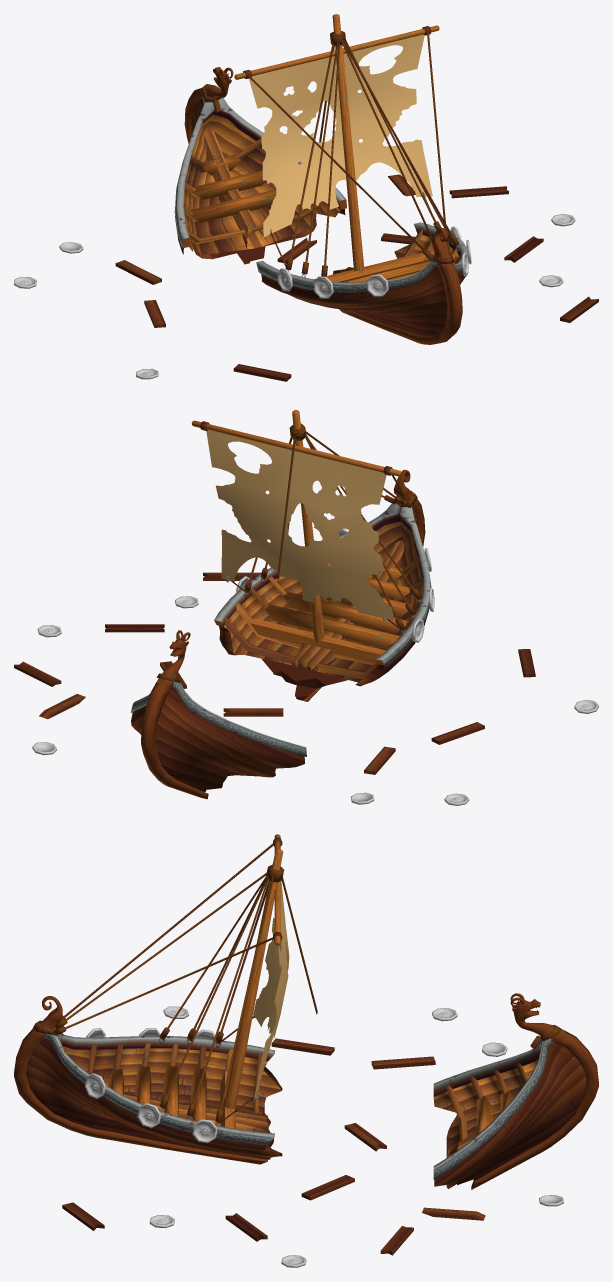
File: VikingShip_ForestProp_004.fbx
3 views of the same model, one above another, from view 1: azimuth 30°, elevation 25°; view 2: azimuth 150°, elevation 25°; view 3: azimuth 270°, elevation 25° (orthographic). The views are drawn at different scales.
Visible parts, largest first — view 1: Enclosure船围.002, sail帆.002, Cabin船舱.002, Hull船身.002, board木板.001, Bottom船底.002, Shield盾牌.002; view 2: sail帆.002, Enclosure船围.002, Hull船身.002, Cabin船舱.002, board木板.001, Bottom船底.002, Shield盾牌.002; view 3: Enclosure船围.002, Hull船身.002, Cabin船舱.002, Bottom船底.002, board木板.001, Shield盾牌.002, sail帆.002.
Boxes of the visible parts, x1,y1,x2,y2 form: Enclosure船围.002: (174, 14, 468, 292); sail帆.002: (249, 34, 432, 236); Cabin船舱.002: (183, 114, 461, 274); Hull船身.002: (175, 98, 465, 336); board木板.001: (115, 174, 598, 381); Bottom船底.002: (184, 67, 462, 344); Shield盾牌.002: (14, 214, 575, 379); sail帆.002: (206, 430, 394, 620); Enclosure船围.002: (130, 410, 431, 756); Hull船身.002: (131, 508, 428, 791); Cabin船舱.002: (224, 521, 423, 682); board木板.001: (14, 572, 535, 774); Bottom船底.002: (141, 469, 425, 799); Shield盾牌.002: (32, 528, 598, 805); Enclosure船围.002: (32, 834, 561, 1179); Hull船身.002: (26, 1038, 586, 1188); Cabin船舱.002: (62, 1043, 538, 1185); Bottom船底.002: (14, 993, 598, 1189); board木板.001: (62, 1038, 485, 1255); Shield盾牌.002: (85, 1006, 563, 1267); sail帆.002: (253, 881, 289, 1101).
Bounding box in the file's own units: 9745 × 5964 × 9321.
